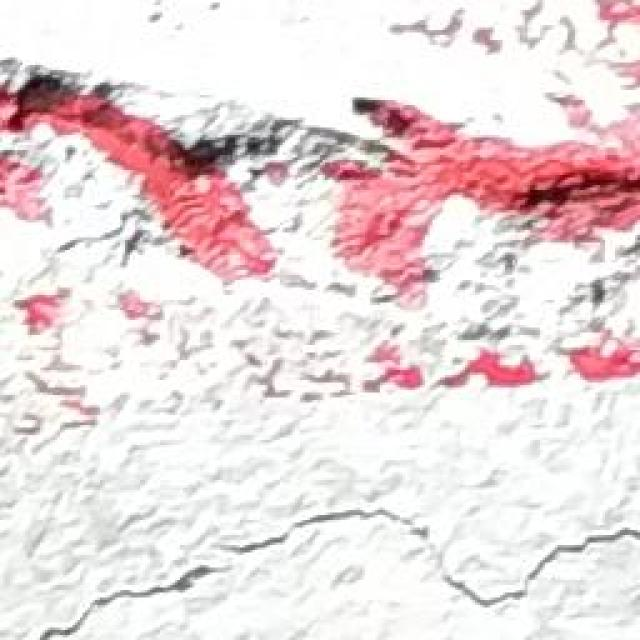Rippled: (0, 21, 636, 452)
Transverse: (2, 478, 640, 640)
